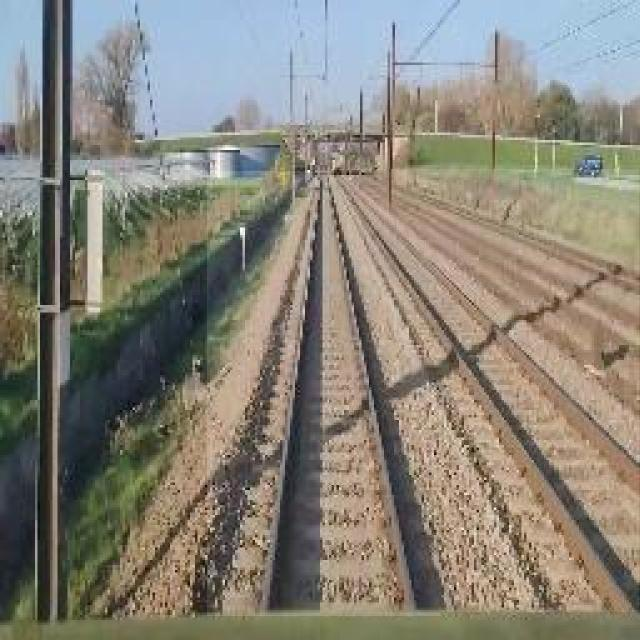rail: (331, 171, 640, 613), (208, 172, 442, 617)
